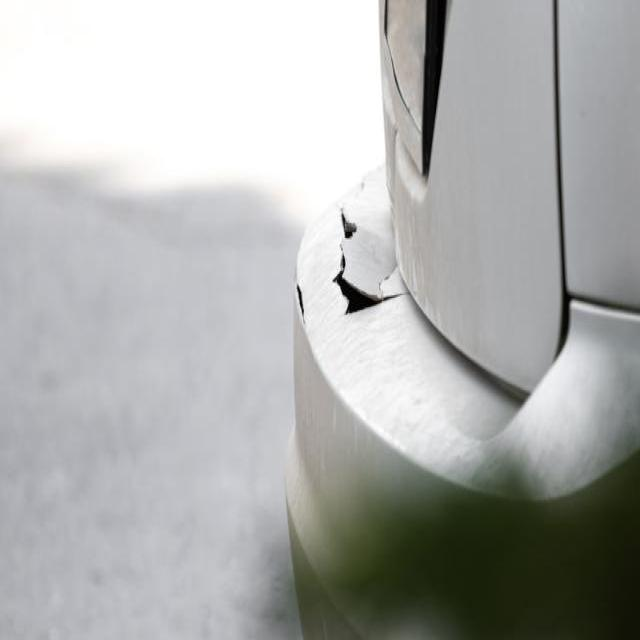Bumper: (280, 163, 429, 414)
